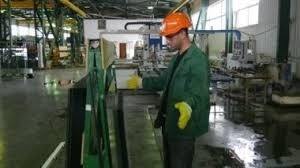helmet: (160, 11, 194, 40)
person with partial safety: (151, 10, 210, 165)
